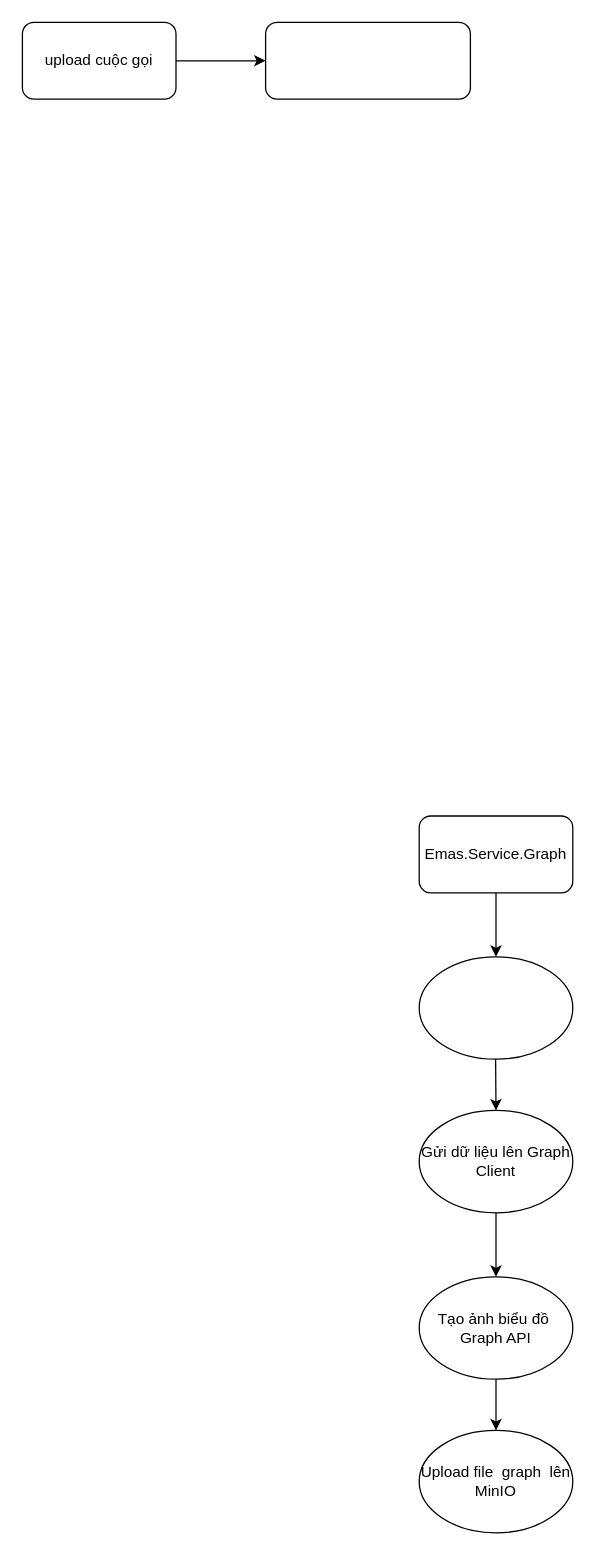
The diagram is 595 pixels wide and 1555 high, and some of its shapes have lost their labels. Each missing label, with the centre of its shape:
Emas.Services.PreProcess: [367,60]
Get emotion: [495,1007]
